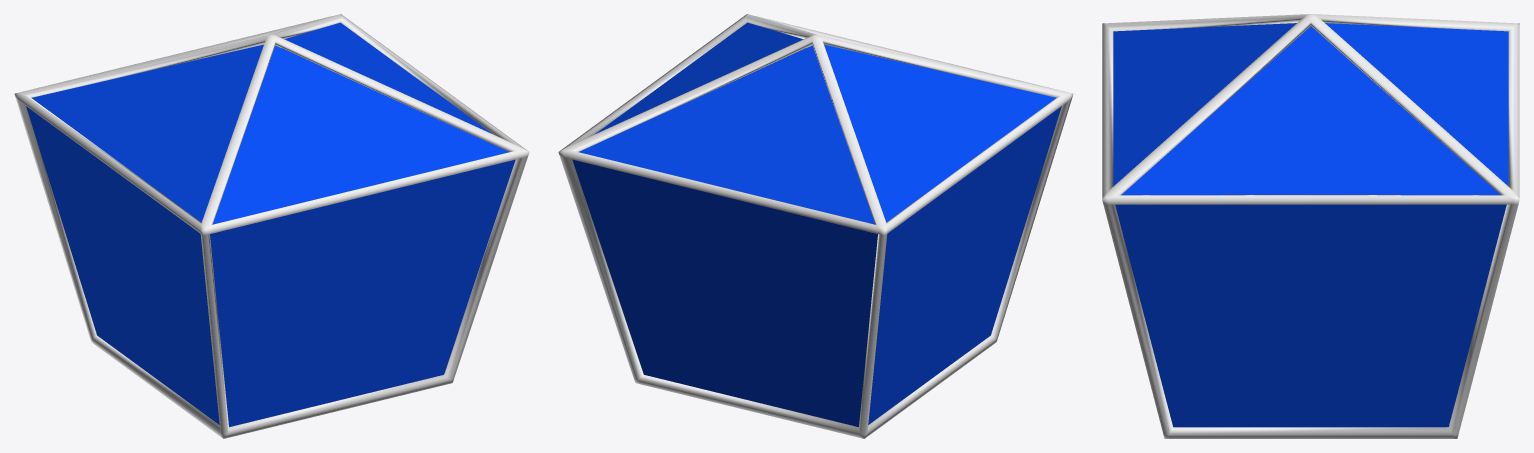
The picture shows the model from 3 angles, left to right: view 1: azimuth 30°, elevation 25°; view 2: azimuth 150°, elevation 25°; view 3: azimuth 270°, elevation 25°; orthographic projection. The views are drawn at different scales.
Parts seen in each view (by area): view 1: Exterior_Faces, Shell; view 2: Exterior_Faces, Shell; view 3: Exterior_Faces, Shell, Complex_Shapes.
Part boxes in pixels (x1=…): Exterior_Faces: x1=26, y1=22, x2=515, y2=426; Shell: x1=14, y1=14, x2=529, y2=438; Exterior_Faces: x1=572, y1=22, x2=1061, y2=426; Shell: x1=558, y1=14, x2=1073, y2=438; Exterior_Faces: x1=1113, y1=23, x2=1508, y2=427; Shell: x1=1102, y1=14, x2=1519, y2=438; Complex_Shapes: x1=1173, y1=195, x2=1448, y2=427.
Bounding box in the file's own units: 7.34 × 7.04 × 7.34.
